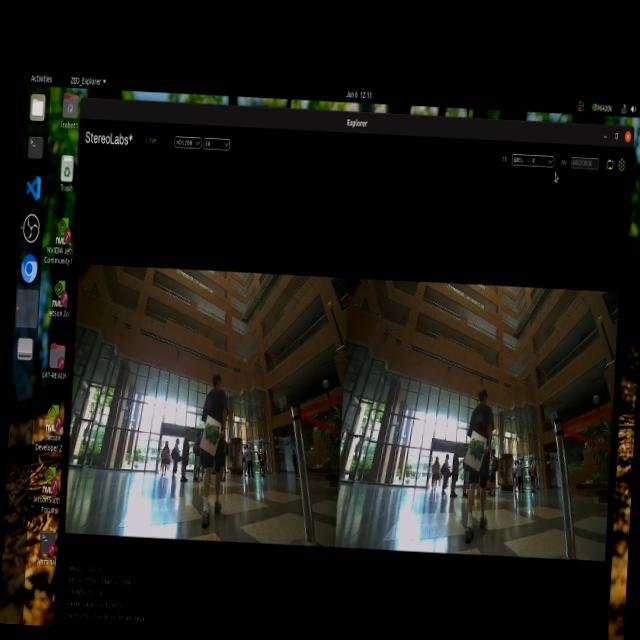green: (470, 438, 485, 468), (209, 418, 224, 446)
